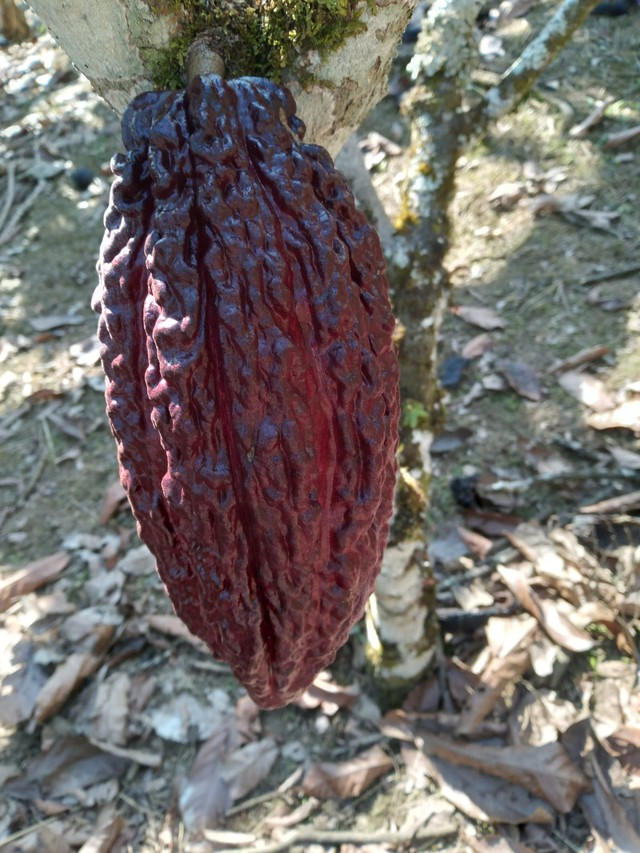Health: (93, 69, 407, 716)
